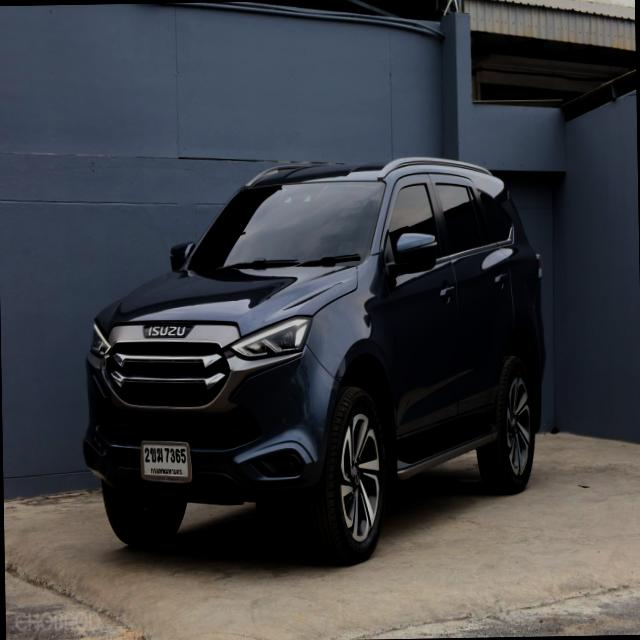license_plate: (134, 430, 196, 497)
